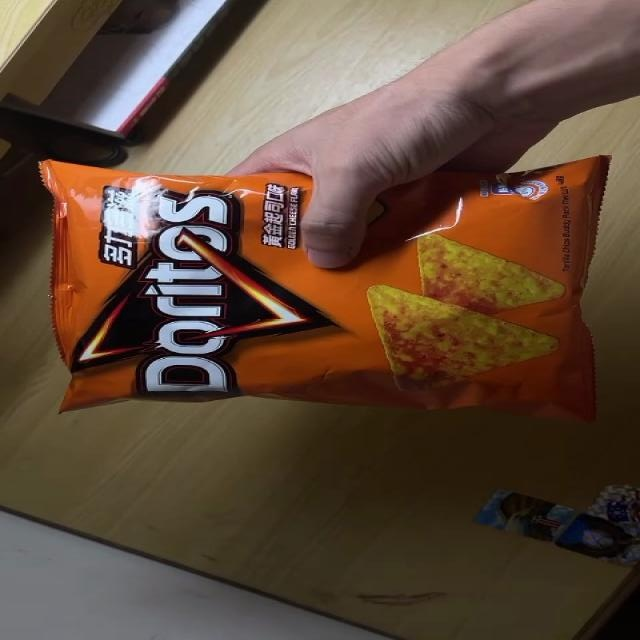Doritos: (38, 148, 614, 424)
